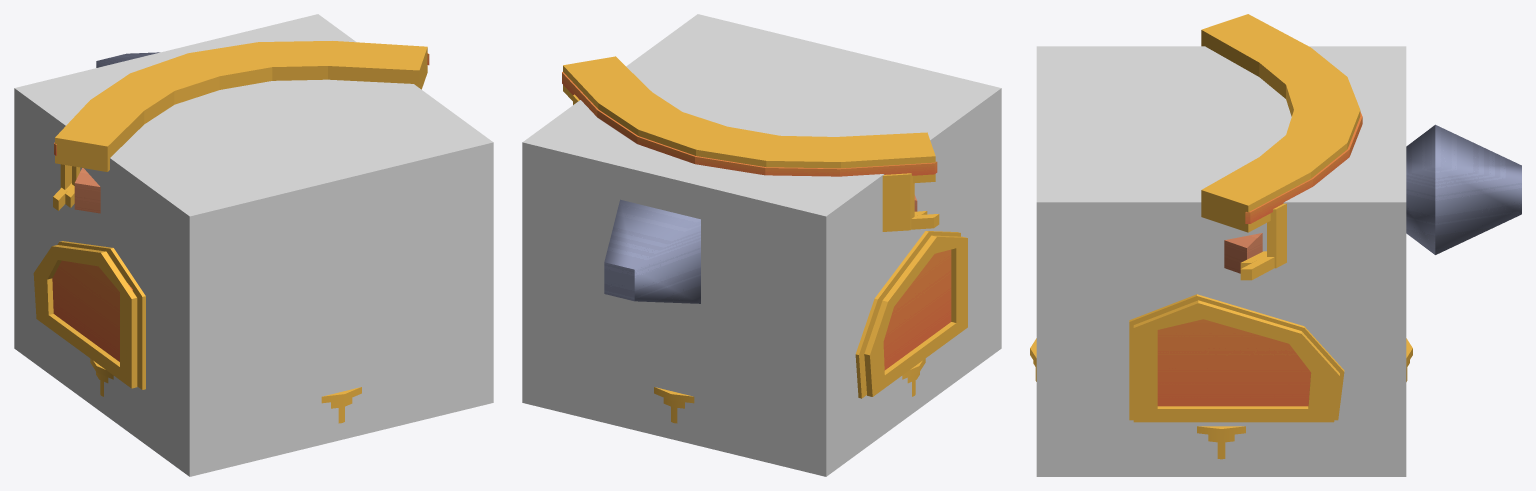
The model's file is crossbow.glb.
3 renders of one model, left to right at view 1: azimuth 30°, elevation 25°; view 2: azimuth 150°, elevation 25°; view 3: azimuth 270°, elevation 25°, orthographic. The views are drawn at different scales.
Parts seen in each view (by area): view 1: COL_BOX_01.001, upgrade_crossbow_l7_bow, upgrade_crossbow_l3_base, upgrade_crossbow_l8_base, arrow; view 2: COL_BOX_01.001, upgrade_crossbow_l7_bow, arrow, upgrade_crossbow_l3_base, upgrade_crossbow_l8_base, upgrade_crossbow_l8_bow; view 3: COL_BOX_01.001, upgrade_crossbow_l7_bow, upgrade_crossbow_l3_base, arrow, upgrade_crossbow_l8_base, upgrade_crossbow_l8_bow.
Part boxes in pixels (x1,y1,x2,y2): COL_BOX_01.001: [14, 14, 493, 476]; upgrade_crossbow_l7_bow: [53, 41, 427, 210]; upgrade_crossbow_l3_base: [52, 241, 145, 389]; upgrade_crossbow_l8_base: [33, 245, 361, 403]; arrow: [74, 52, 159, 213]; COL_BOX_01.001: [522, 14, 1001, 476]; upgrade_crossbow_l7_bow: [563, 56, 939, 231]; arrow: [604, 195, 917, 303]; upgrade_crossbow_l3_base: [855, 231, 960, 398]; upgrade_crossbow_l8_base: [654, 235, 967, 403]; upgrade_crossbow_l8_bow: [562, 72, 937, 176]; COL_BOX_01.001: [1036, 46, 1406, 476]; upgrade_crossbow_l7_bow: [1201, 14, 1360, 280]; upgrade_crossbow_l3_base: [1129, 294, 1344, 420]; arrow: [1224, 124, 1521, 273]; upgrade_crossbow_l8_base: [1030, 300, 1412, 435]; upgrade_crossbow_l8_bow: [1245, 111, 1362, 223].
Bounding box in the file's own units: 1.48 × 1.04 × 1.6.
Materials: 1 (1 with a texture image).
